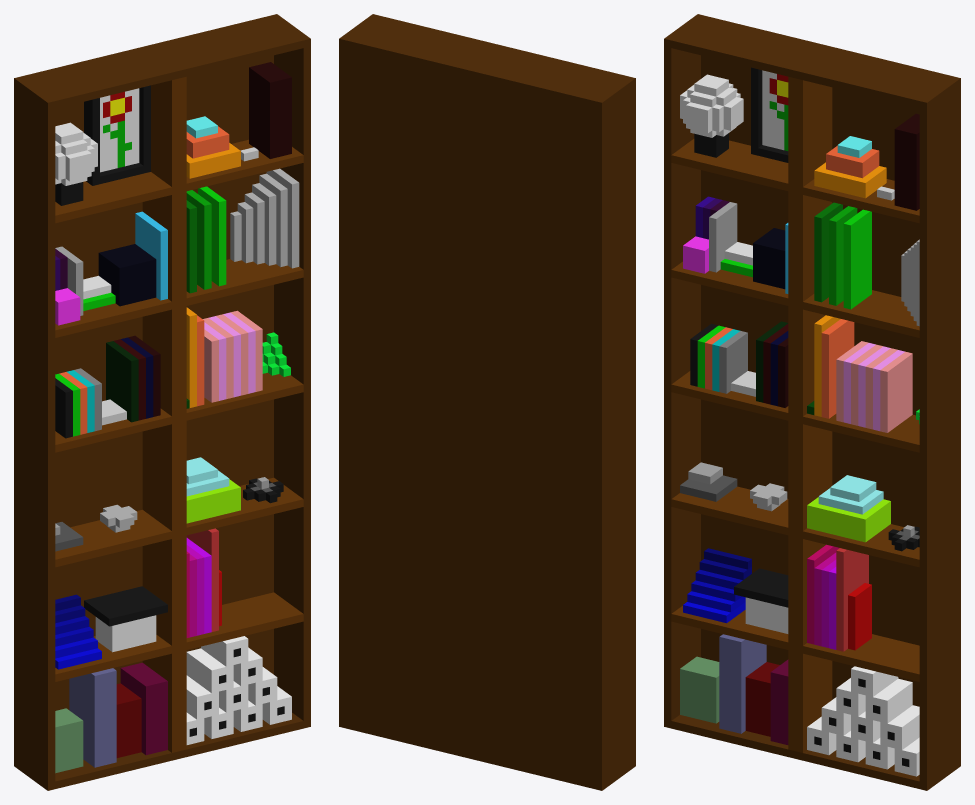
Rendered from bookshelf.obj.
3 renders of one model, left to right at view 1: azimuth 30°, elevation 25°; view 2: azimuth 150°, elevation 25°; view 3: azimuth 330°, elevation 25°, orthographic.
Bounding box in the file's own units: 3.6 × 9 × 0.8.
1 material, 1 textured.
